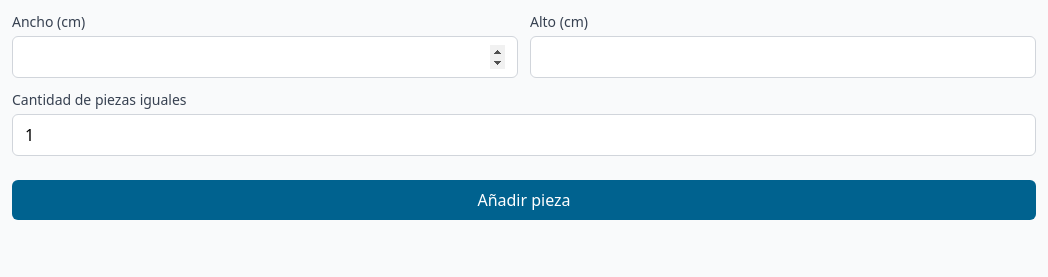
Scenario: OrderLineForm › M2 › rejects height-input below minimum
In the number field with test id "width-input": (265, 57) x1=12 y1=36 x2=518 y2=78, type "100"
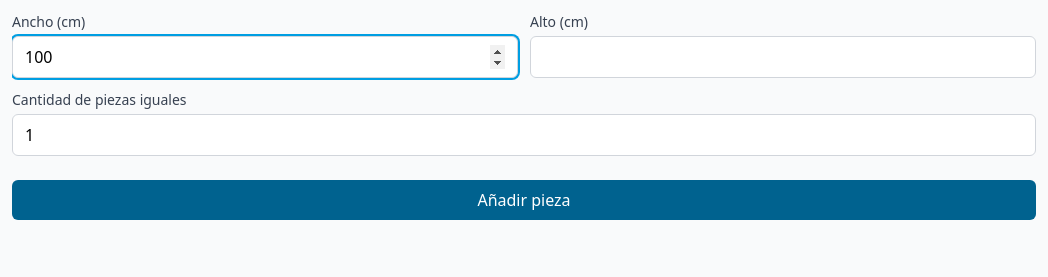
In the number field with test id "height-input": (783, 57) x1=530 y1=36 x2=1036 y2=78, type "14"
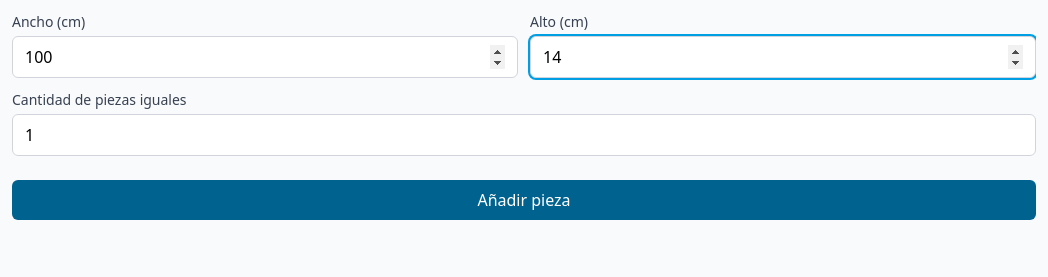
Click the button with test id "add-piece-btn": (524, 200) x1=12 y1=180 x2=1036 y2=220
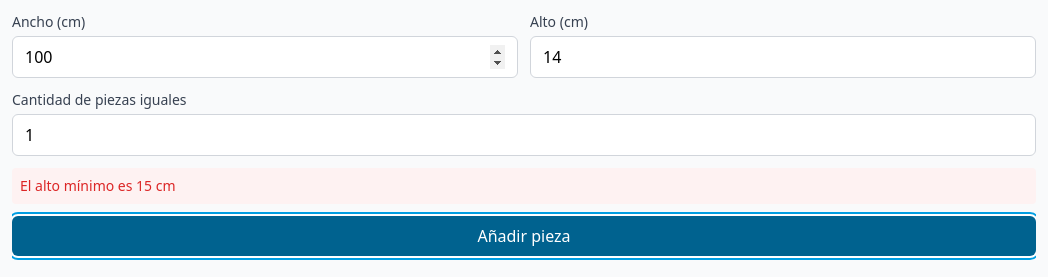
expect the text "El alto mínimo es 15 cm" is shown: met, box x1=12 y1=168 x2=1036 y2=204
